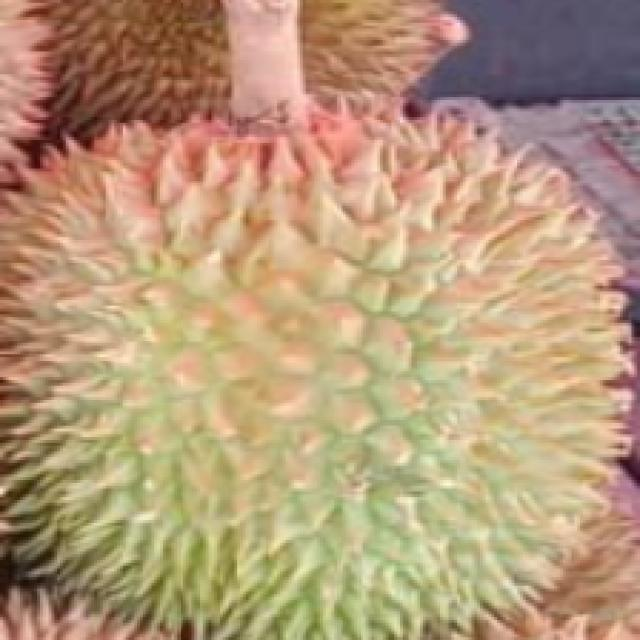d24: (36, 6, 596, 628)
